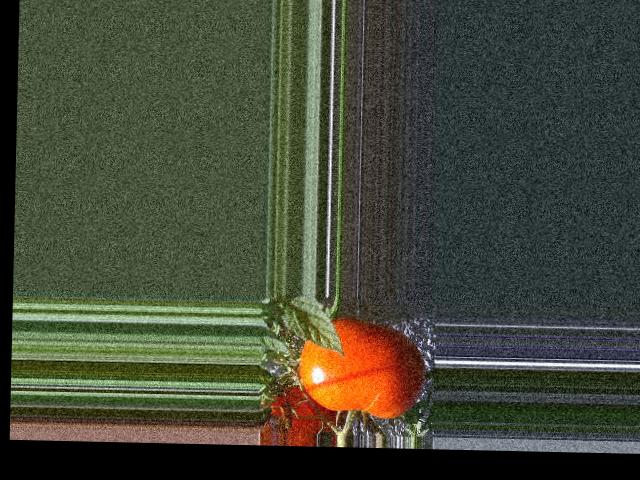tomato: (298, 317, 426, 419)
